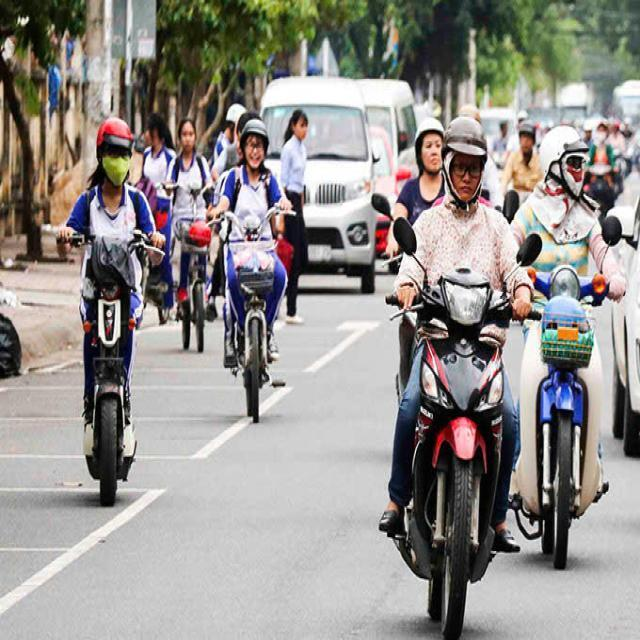car: (242, 73, 382, 296)
motorcycle: (383, 216, 541, 626), (507, 208, 625, 574), (58, 220, 167, 508), (211, 199, 294, 428), (159, 172, 223, 355)
